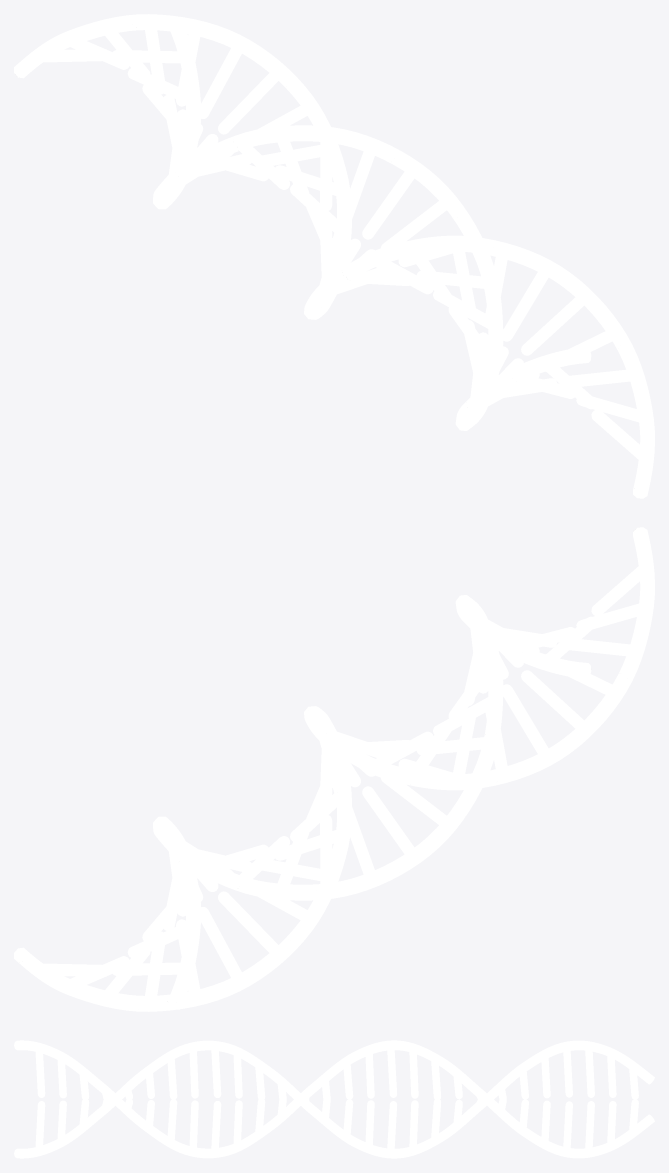
File: dna1.gltf
The picture shows the model from 3 angles, top to bottom: view 1: azimuth 30°, elevation 25°; view 2: azimuth 150°, elevation 25°; view 3: azimuth 270°, elevation 25°; orthographic projection. The views are drawn at different scales.
Parts seen in each view (by area): view 1: 扫描, 扫描1, 胶囊_23, 胶囊_6, 胶囊_42, 胶囊_22, 胶囊_5, 胶囊_41, 胶囊_4, 胶囊_21, 胶囊_40, 胶囊_43 (+11 smaller); view 2: 扫描1, 扫描, 胶囊_14, 胶囊_34, 胶囊_51, 胶囊_50, 胶囊_15, 胶囊_35, 胶囊_33, 胶囊_52, 胶囊_16, 胶囊_36 (+13 smaller); view 3: 扫描, 扫描1, 胶囊_19, 胶囊_11, 胶囊_48, 胶囊_2, 胶囊_39, 胶囊_47, 胶囊_38, 胶囊_31, 胶囊_55, 胶囊_20 (+29 smaller).
Boxes of the visible parts, bbox=[...] form: 扫描: bbox=[14, 14, 654, 498]; 扫描1: bbox=[153, 16, 591, 430]; 胶囊_23: bbox=[521, 296, 584, 355]; 胶囊_6: bbox=[218, 72, 278, 134]; 胶囊_42: bbox=[362, 171, 414, 239]; 胶囊_22: bbox=[501, 271, 548, 341]; 胶囊_5: bbox=[197, 47, 241, 118]; 胶囊_41: bbox=[340, 150, 374, 223]; 胶囊_4: bbox=[176, 33, 200, 106]; 胶囊_21: bbox=[484, 256, 507, 328]; 胶囊_40: bbox=[320, 141, 332, 211]; 胶囊_43: bbox=[381, 200, 447, 247]; 扫描1: bbox=[14, 527, 654, 1011]; 扫描: bbox=[153, 595, 591, 1009]; 胶囊_14: bbox=[362, 786, 414, 854]; 胶囊_34: bbox=[218, 891, 278, 952]; 胶囊_51: bbox=[521, 670, 584, 728]; 胶囊_50: bbox=[503, 684, 549, 754]; 胶囊_15: bbox=[380, 771, 447, 824]; 胶囊_35: bbox=[237, 875, 307, 920]; 胶囊_33: bbox=[201, 907, 242, 978]; 胶囊_52: bbox=[541, 653, 612, 694]; 胶囊_16: bbox=[398, 758, 469, 788]; 胶囊_36: bbox=[255, 858, 326, 881]; 扫描: bbox=[14, 1040, 654, 1158]; 扫描1: bbox=[14, 1040, 654, 1158]; 胶囊_19: bbox=[211, 1048, 221, 1097]; 胶囊_11: bbox=[387, 1101, 396, 1150]; 胶囊_48: bbox=[189, 1100, 198, 1149]; 胶囊_2: bbox=[585, 1048, 594, 1097]; 胶囊_39: bbox=[387, 1048, 396, 1097]; 胶囊_47: bbox=[211, 1101, 221, 1149]; 胶囊_38: bbox=[409, 1049, 418, 1098]; 胶囊_31: bbox=[563, 1101, 572, 1150]; 胶囊_55: bbox=[35, 1049, 45, 1097]; 胶囊_20: bbox=[189, 1050, 198, 1098].
Bounding box in the file's own units: 1.09 × 1.08 × 5.91.
Materials: 1 (1 with a texture image).
